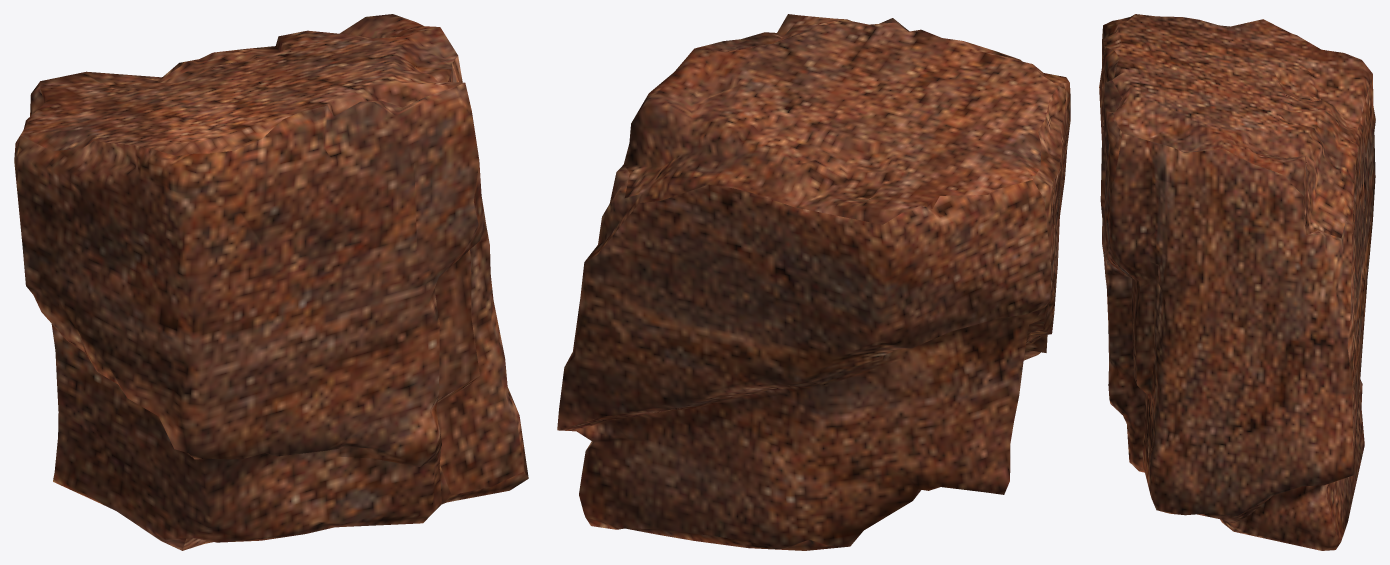
File: Free_rock.obj
3 views of the same model, side by side, from view 1: azimuth 30°, elevation 25°; view 2: azimuth 150°, elevation 25°; view 3: azimuth 270°, elevation 25° (orthographic). The views are drawn at different scales.
Visible parts, largest first — view 1: Free_rock; view 2: Free_rock; view 3: Free_rock.
Boxes of the visible parts, x1,y1,x2,y2 form: Free_rock: (14, 14, 528, 550); Free_rock: (557, 14, 1070, 550); Free_rock: (1099, 14, 1375, 550).
Size of the model in its own units: 0.98 by 0.98 by 0.62.
1 material, 1 textured.
